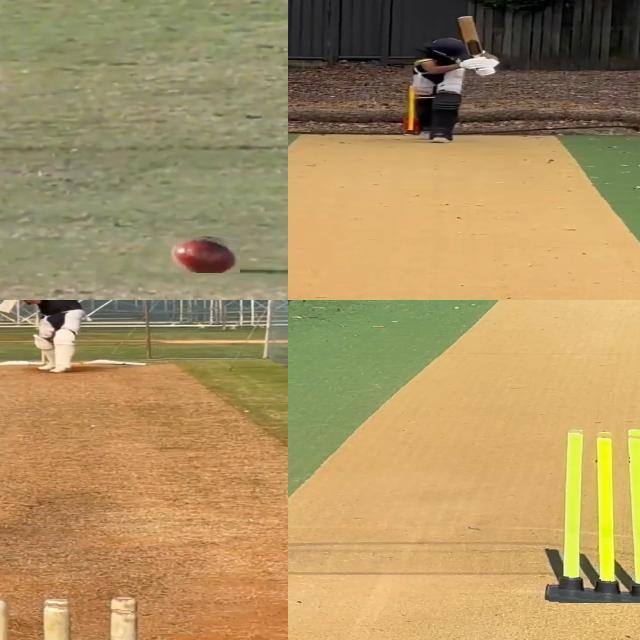Cricket ball: (170, 234, 240, 273)
Stumps: (543, 427, 640, 603), (0, 596, 139, 640)
